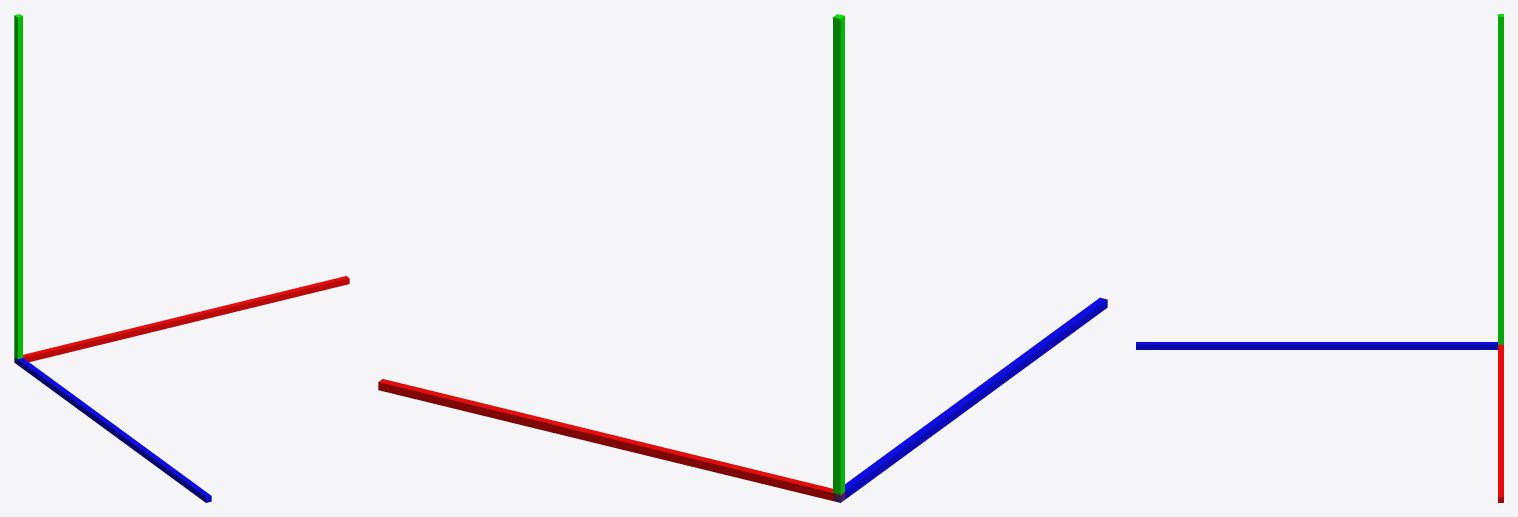
Rendered from Axes.fbx.
3 views of the same model, side by side, from view 1: azimuth 30°, elevation 25°; view 2: azimuth 150°, elevation 25°; view 3: azimuth 270°, elevation 25° (orthographic). The views are drawn at different scales.
Parts seen in each view (by area): view 1: Box002, Box003, Box001; view 2: Box002, Box003, Box001; view 3: Box001, Box003, Box002.
Part boxes in pixels (bbox=[...]): Box002: bbox=[14, 276, 349, 361]; Box003: bbox=[14, 14, 22, 360]; Box001: bbox=[14, 357, 211, 502]; Box002: bbox=[378, 379, 844, 502]; Box003: bbox=[833, 14, 844, 502]; Box001: bbox=[833, 297, 1107, 502]; Box001: bbox=[1136, 342, 1497, 349]; Box003: bbox=[1498, 14, 1503, 344]; Box002: bbox=[1498, 344, 1503, 502].
Bounding box in the file's own units: 60 × 60 × 60.
